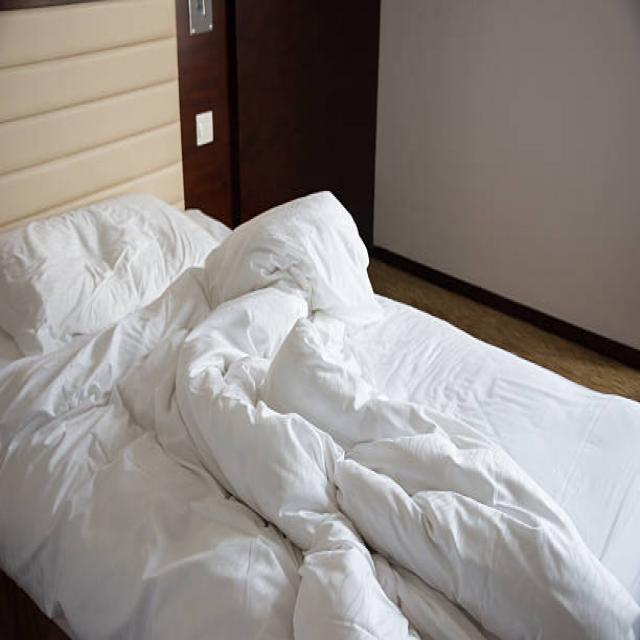bed: (3, 188, 640, 640)
